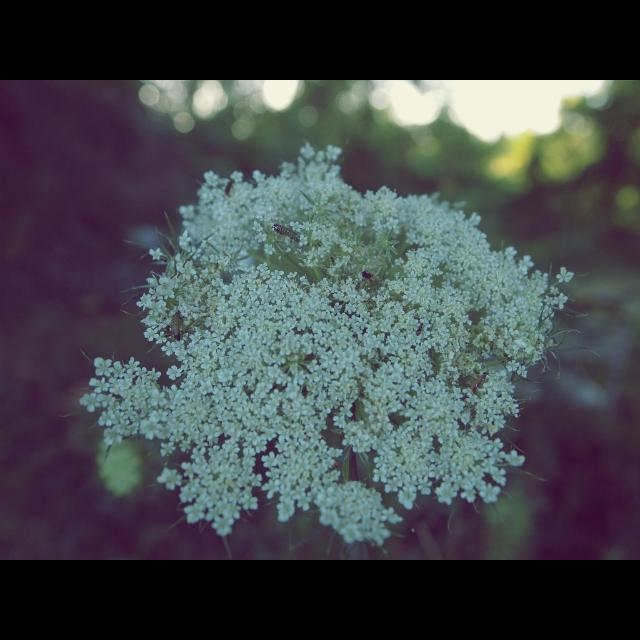Flower: (82, 139, 570, 556), (418, 480, 430, 494)
